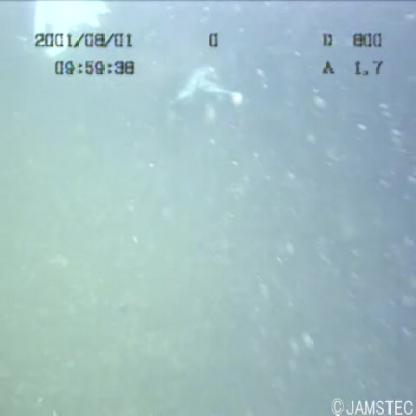Rác: (34, 1, 119, 58), (162, 60, 241, 106)
